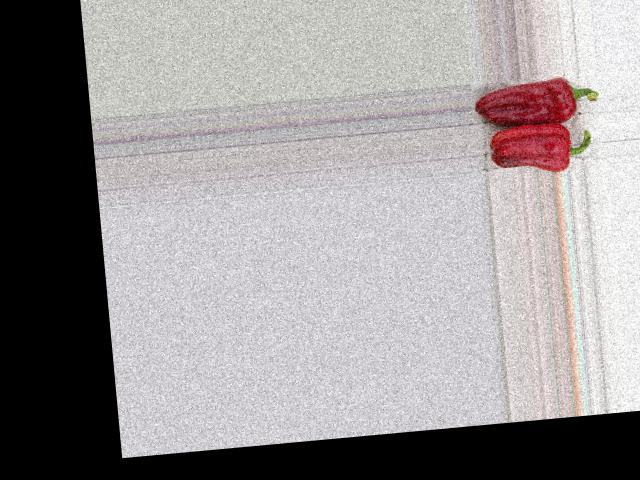bell_pepper: (473, 74, 604, 131)
